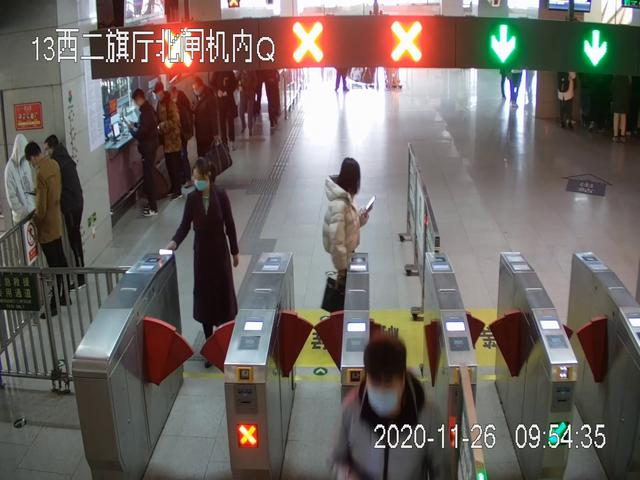person: (330, 337, 453, 480), (165, 157, 239, 370), (24, 140, 73, 318), (324, 158, 376, 315), (44, 135, 88, 286), (3, 132, 37, 306), (129, 87, 160, 217), (153, 83, 186, 200), (190, 76, 221, 179), (212, 71, 239, 152), (237, 68, 262, 135), (556, 69, 577, 129)
